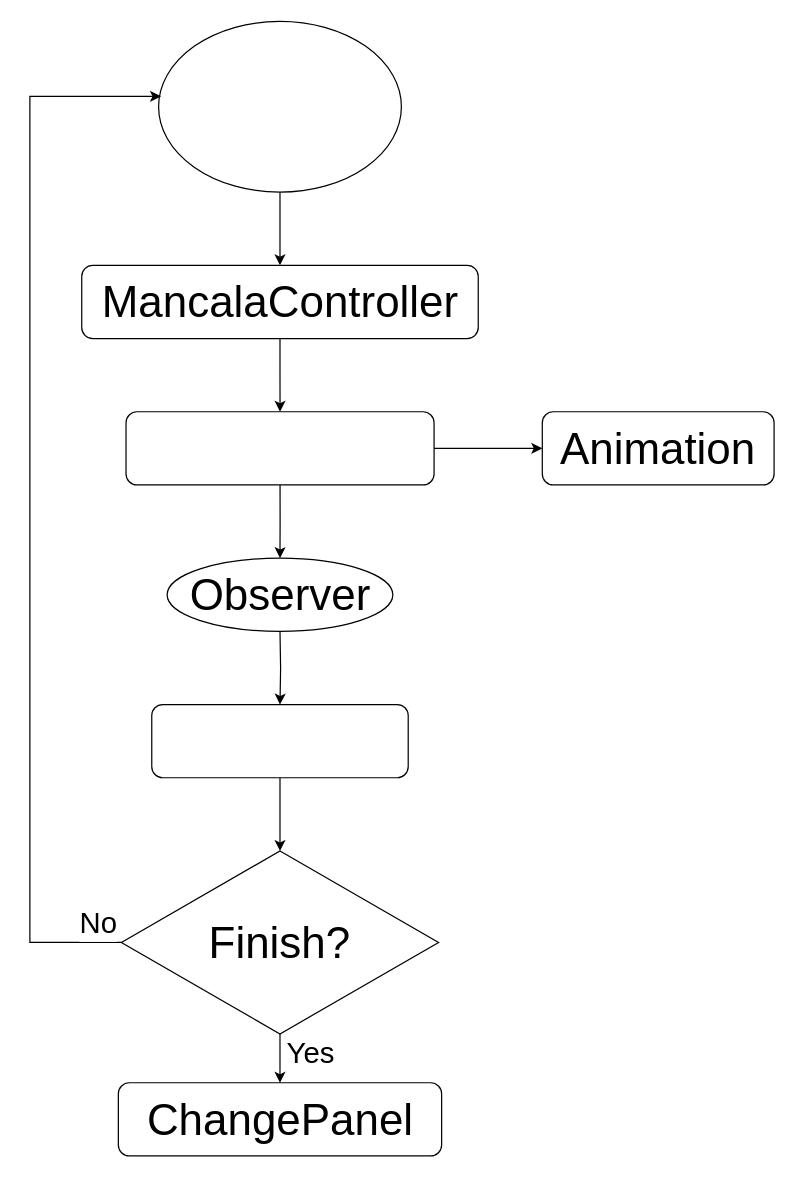
Image size: 795x1177. Some labels were removed from this diagram. The centre of each missing label's shape, as x and y in pixels:
MancalaModel: the point at 279,448
ViwePanel: the point at 279,740
ポケットをタッチ: the point at 279,106
